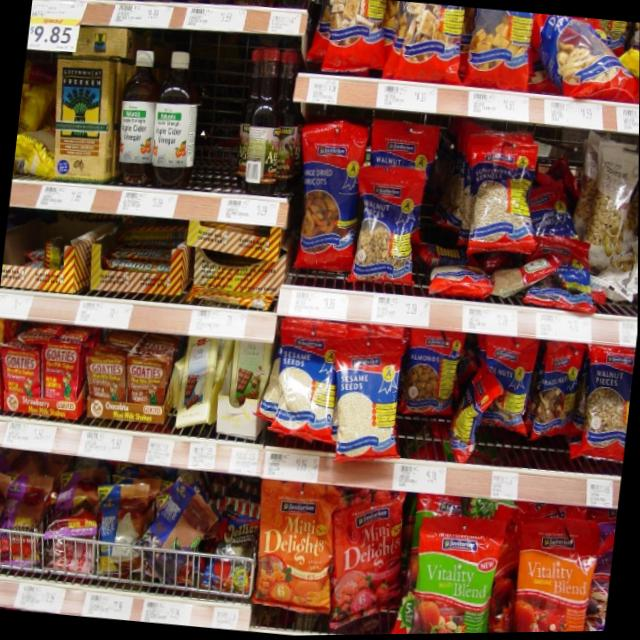q274: (403, 514, 501, 635)
q55: (43, 49, 123, 188)
